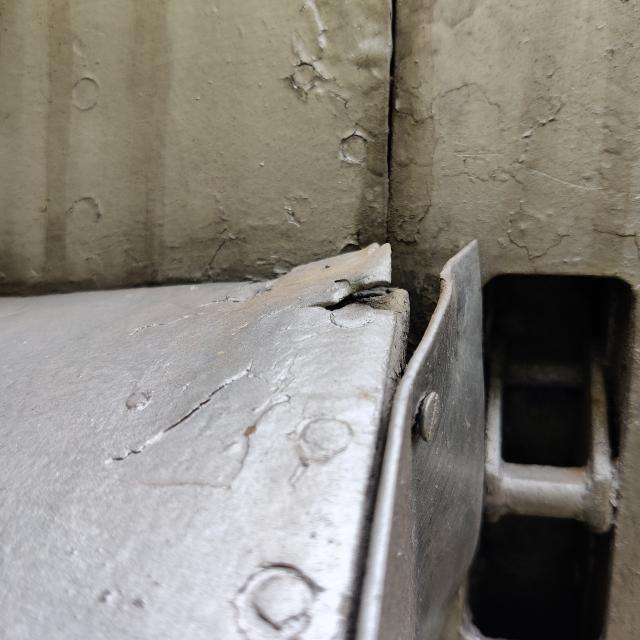Crack: (309, 245, 392, 310)
